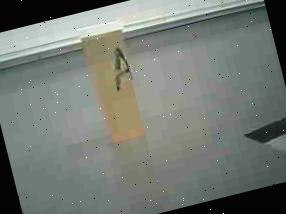Bottle A: (70, 9, 164, 159)
